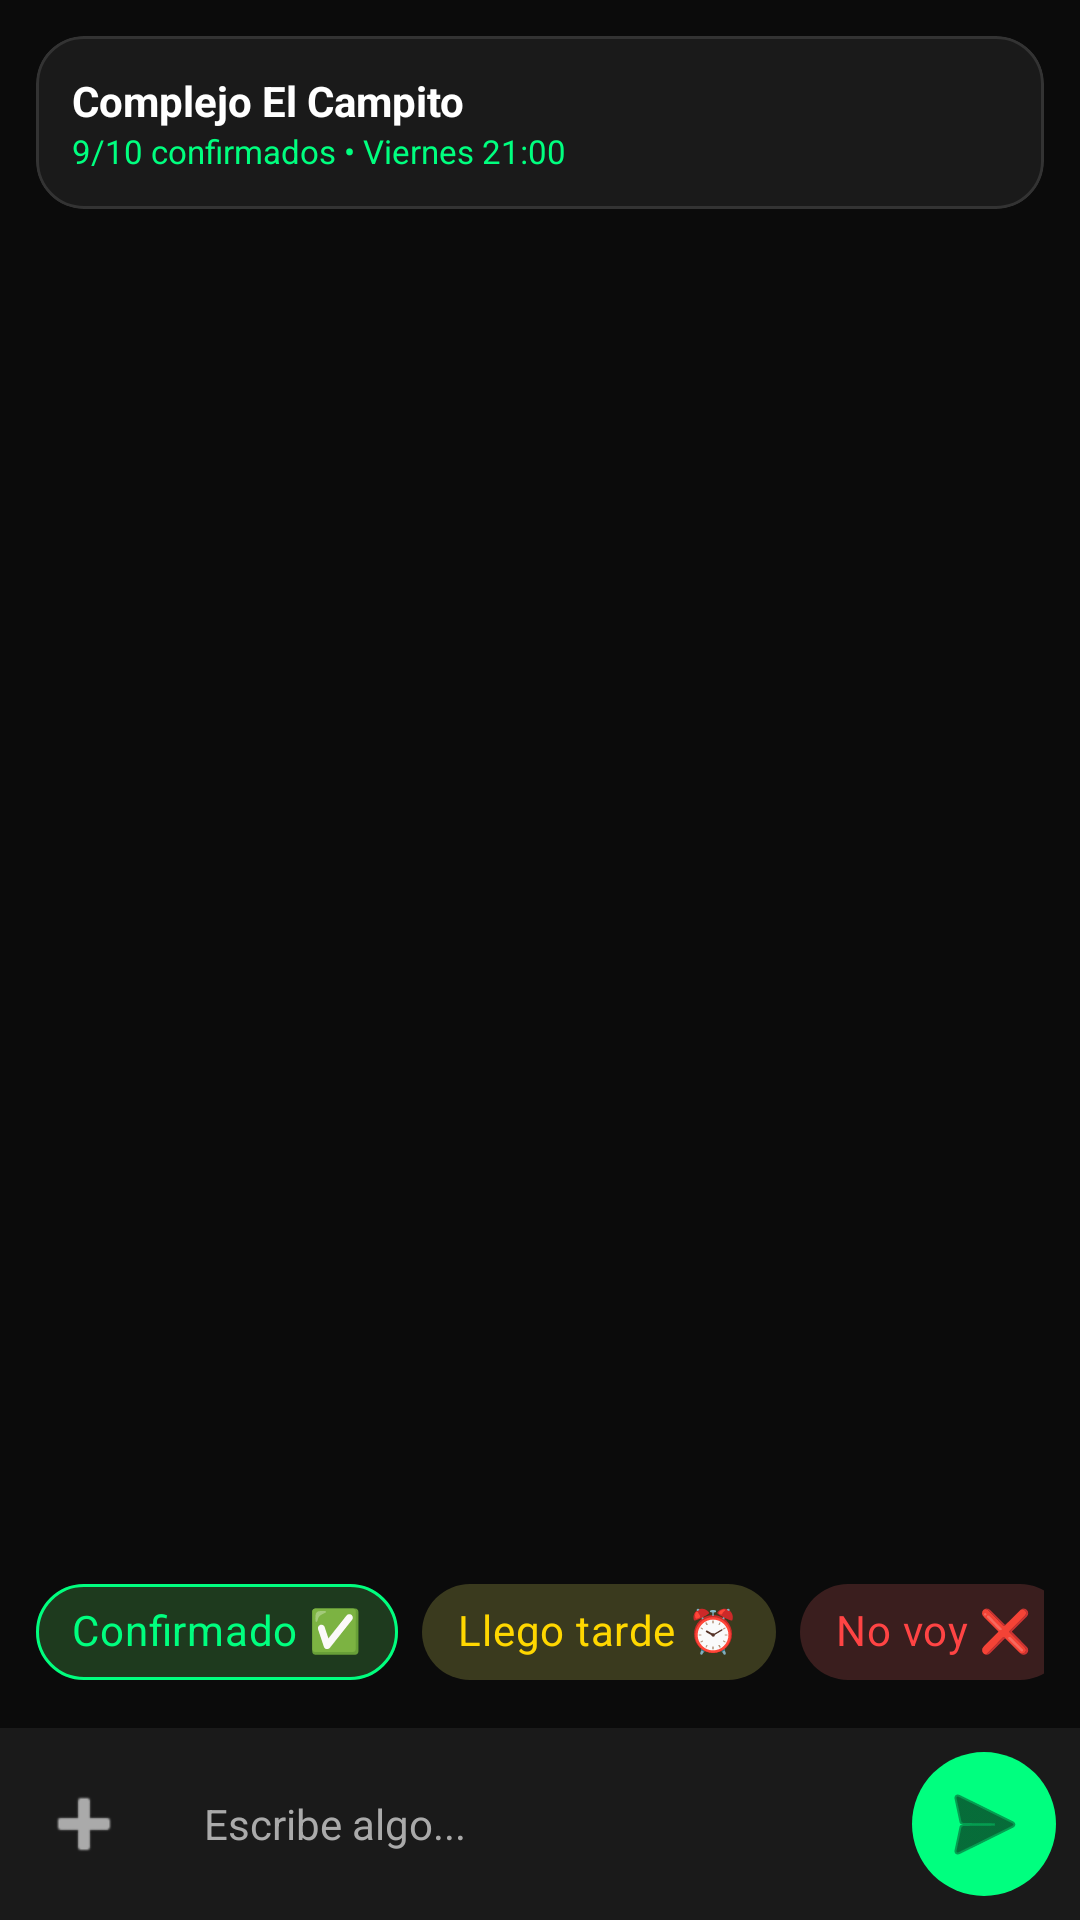

Where icons sit on this 1080px×1920px app screen, as (x1, y1, x2, y2):
add: (57, 1797, 111, 1851)
send: (912, 1752, 1056, 1896)
